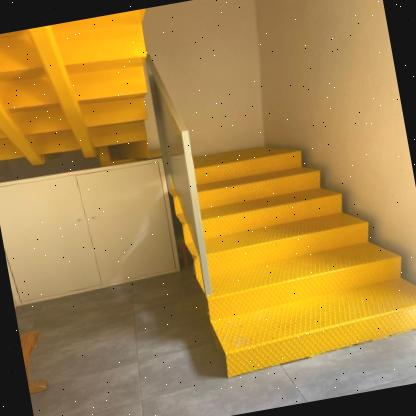stair: (160, 112, 416, 402)
